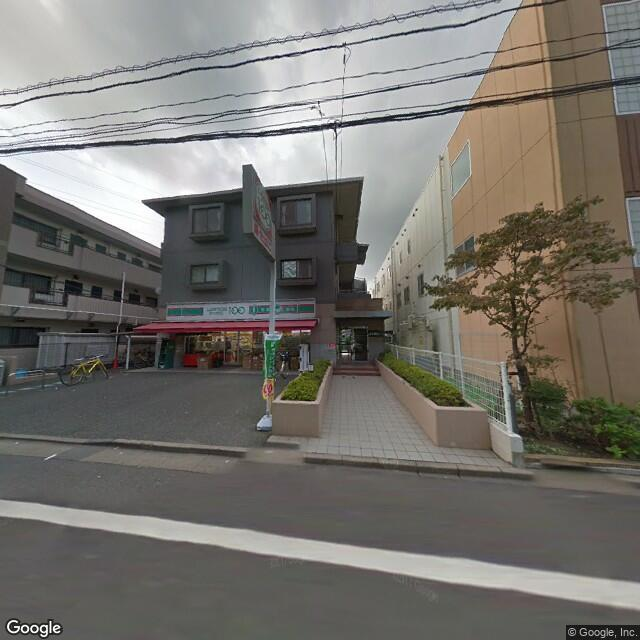lawson: (166, 296, 318, 327)
